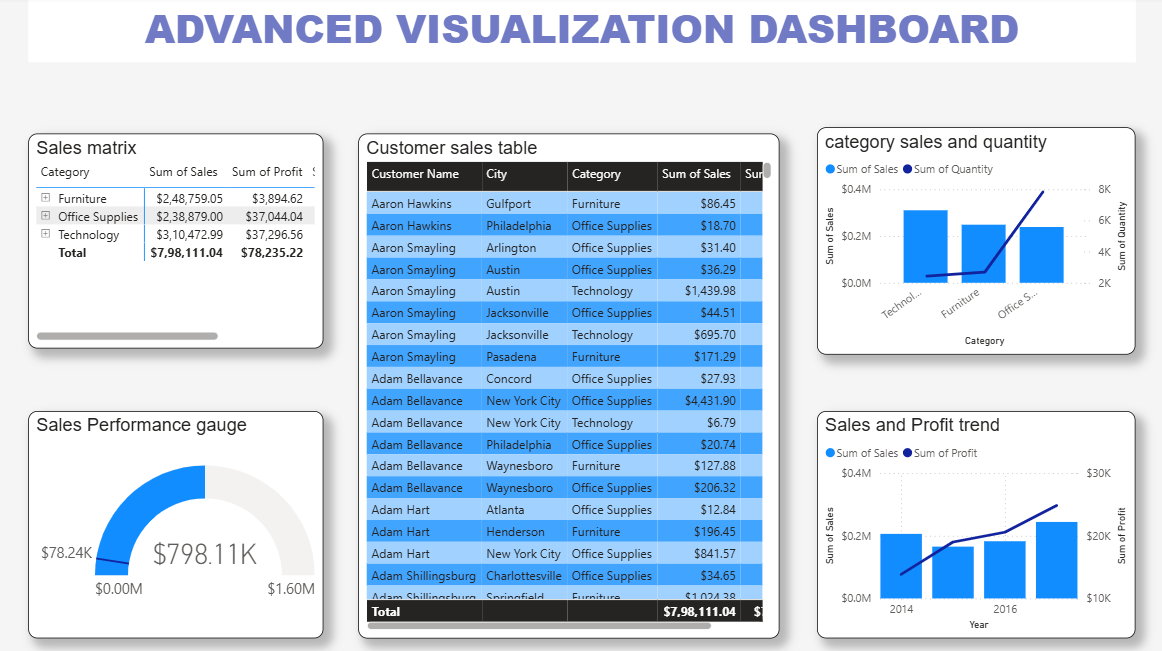

The page's visual inventory and layout, read from the dashboard file:
{"tool":"powerbi","page":{"name":"Report 4","canvas":[1280,720],"ordinal":3},"visuals":[{"type":"textbox","box":[34.3,0,1215.8,72.7],"z":0},{"type":"pivotTable","title":"Sales matrix","fields":{"Rows":["Project 2 Data.Category","Project 2 Data.Product Name"],"Values":["Sum(Project 2 Data.Sales)","Sum(Project 2 Data.Profit)","Sum(Project 2 Data.Quantity)"]},"box":[34.3,150.9,323.8,236],"z":1000},{"type":"tableEx","title":"Customer sales table","fields":{"Values":["Project 2 Data.Customer Name","Project 2 Data.City","Project 2 Data.Category","Sum(Project 2 Data.Sales)","Sum(Project 2 Data.Profit)"]},"box":[396.6,150.9,462.4,554.4],"z":2000},{"type":"gauge","title":"Sales Performance gauge","fields":{"Y":["Sum(Project 2 Data.Sales)"],"TargetValue":["Sum(Project 2 Data.Profit)"]},"box":[34.3,455.6,323.8,249.7],"z":3000},{"type":"lineStackedColumnComboChart","title":" Sales and Profit trend","fields":{"Category":["Project 2 Data.Order Date.Variation.Date Hierarchy.Year","Project 2 Data.Order Date.Variation.Date Hierarchy.Quarter","Project 2 Data.Order Date.Variation.Date Hierarchy.Month","Project 2 Data.Order Date.Variation.Date Hierarchy.Day"],"Y":["Sum(Project 2 Data.Sales)"],"Y2":["Sum(Project 2 Data.Profit)"]},"box":[900.2,455.6,349.9,249.7],"z":4000},{"type":"lineClusteredColumnComboChart","title":"category sales and quantity","fields":{"Category":["Project 2 Data.Category"],"Y":["Sum(Project 2 Data.Sales)"],"Y2":["Sum(Project 2 Data.Quantity)"]},"box":[900.2,144.1,349.9,249.7],"z":5000}]}

Visuals, with their boxes in screenshot pixels (x1, y1, x2, y2), scaled from the page's 1280x720 canvas onto the 1162x651 screenshot:
textbox: box=[31, 0, 1135, 66]
"Sales matrix" pivotTable: box=[31, 136, 325, 350]
"Customer sales table" tableEx: box=[360, 136, 780, 638]
"Sales Performance gauge" gauge: box=[31, 412, 325, 638]
" Sales and Profit trend" lineStackedColumnComboChart: box=[817, 412, 1135, 638]
"category sales and quantity" lineClusteredColumnComboChart: box=[817, 130, 1135, 356]
